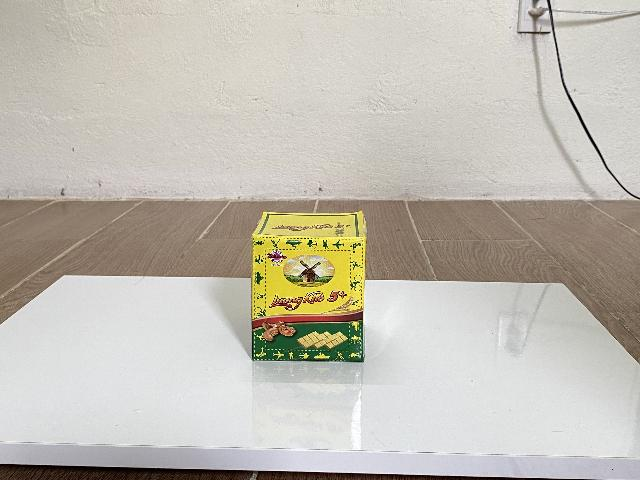luong_kho: (250, 211, 367, 365)
